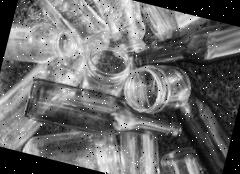glass: (22, 74, 187, 156)
